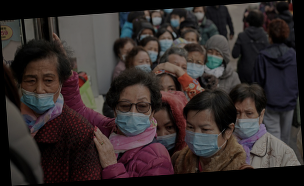mask_weared_incorrect: (19, 69, 61, 113)
with_mask: (116, 94, 152, 137), (185, 118, 222, 157), (233, 105, 261, 139), (155, 118, 177, 150), (186, 55, 206, 80), (205, 49, 225, 70), (133, 58, 153, 75), (158, 34, 174, 51), (146, 45, 160, 63), (170, 16, 183, 28), (194, 10, 206, 21), (151, 15, 163, 26)
